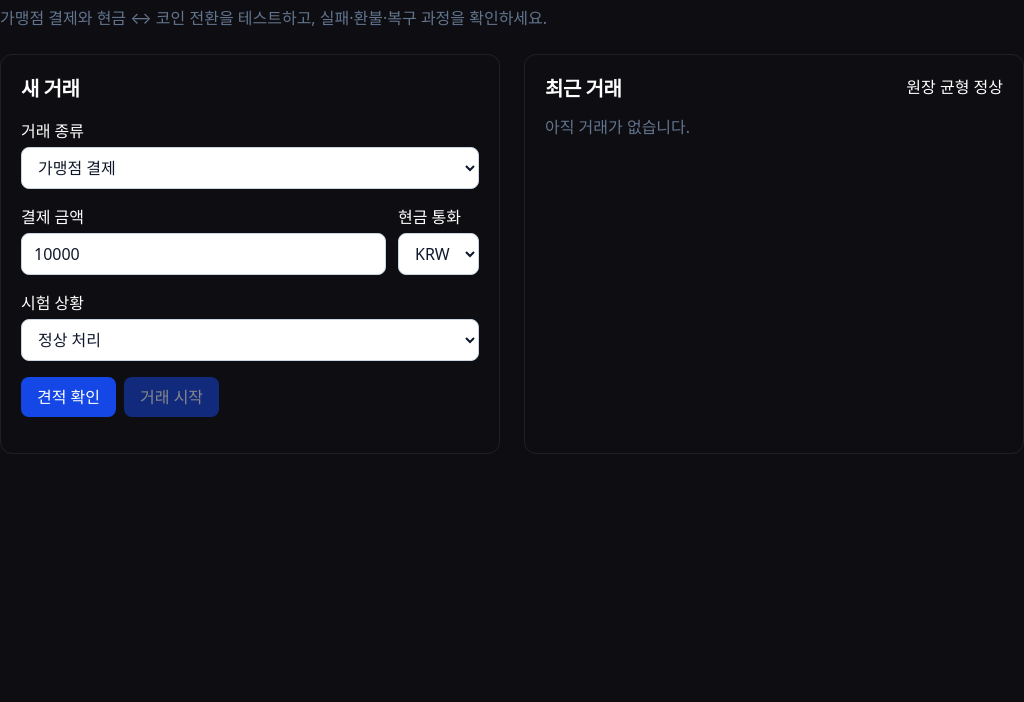
it: payment lab › releases a definitively rejected expired quote so a fresh order can be requested
Click the button "견적 확인": [68, 397] box [21,377,116,417]
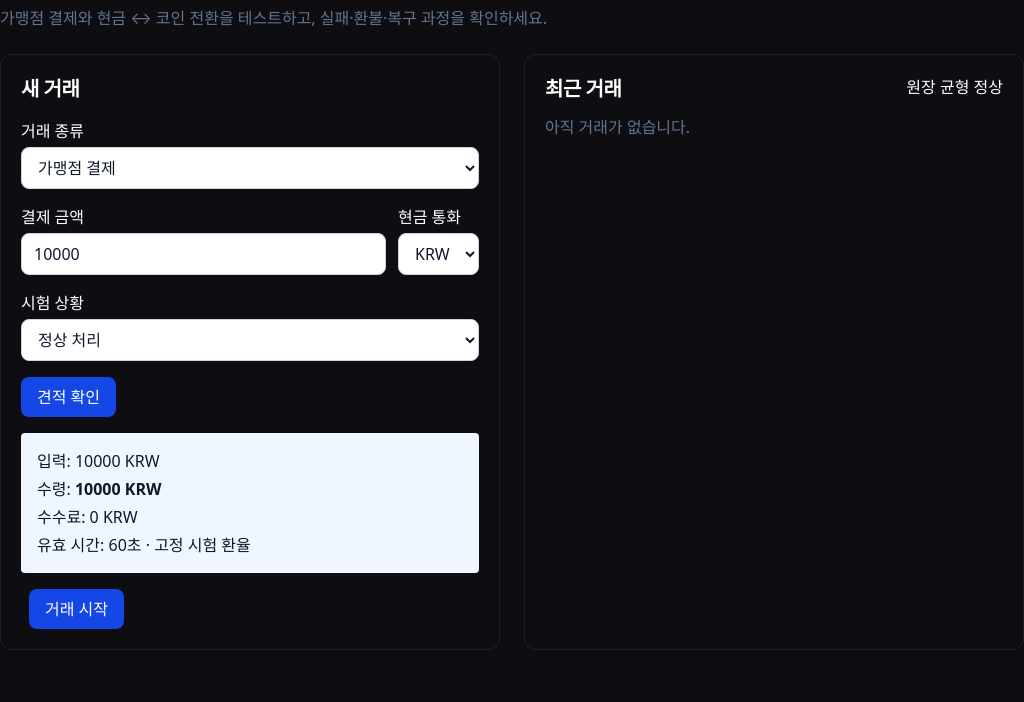
expect the text "수수료: 0 KRW" is shown: met, box [37,506,138,528]
Click the button "거래 시작": [76, 609] box [29,589,124,629]
(page scrolled)
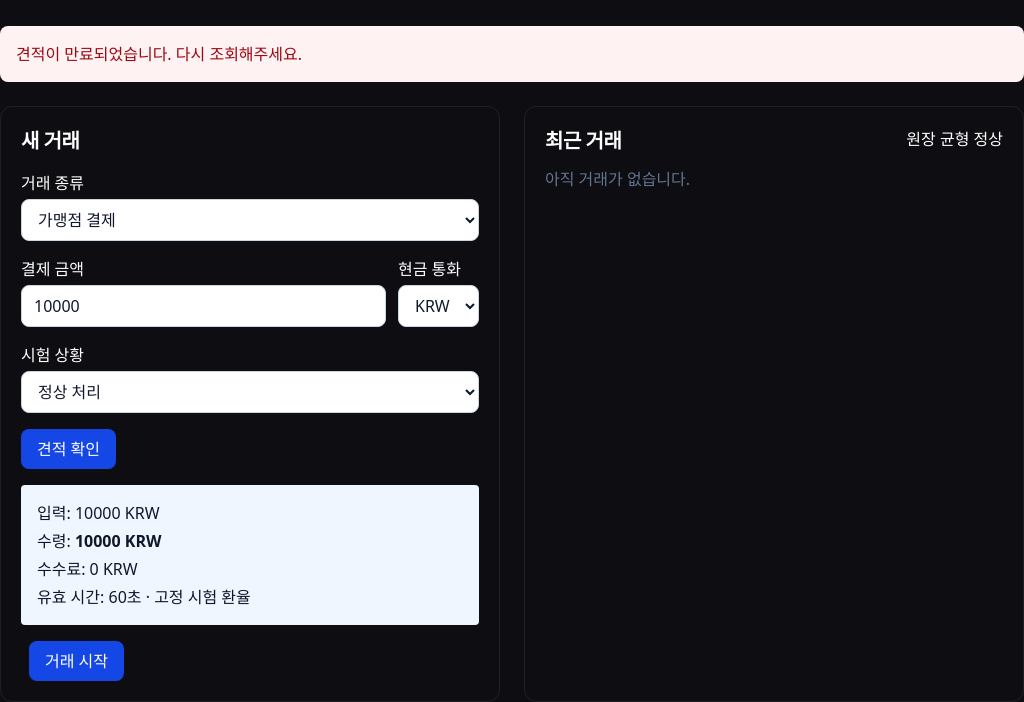
expect the button "거래 시작" is shown: met, box [29,641,124,681]
expect the message "견적이 만료되었습니다. 다시 조회해주세요." is shown: met, box [0,26,1023,82]
